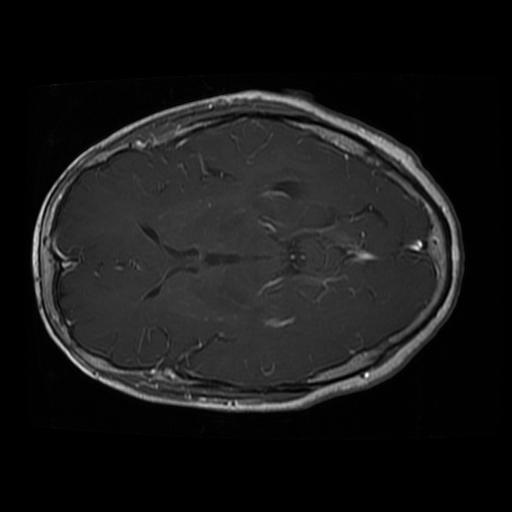glioma: (258, 171, 302, 202)
